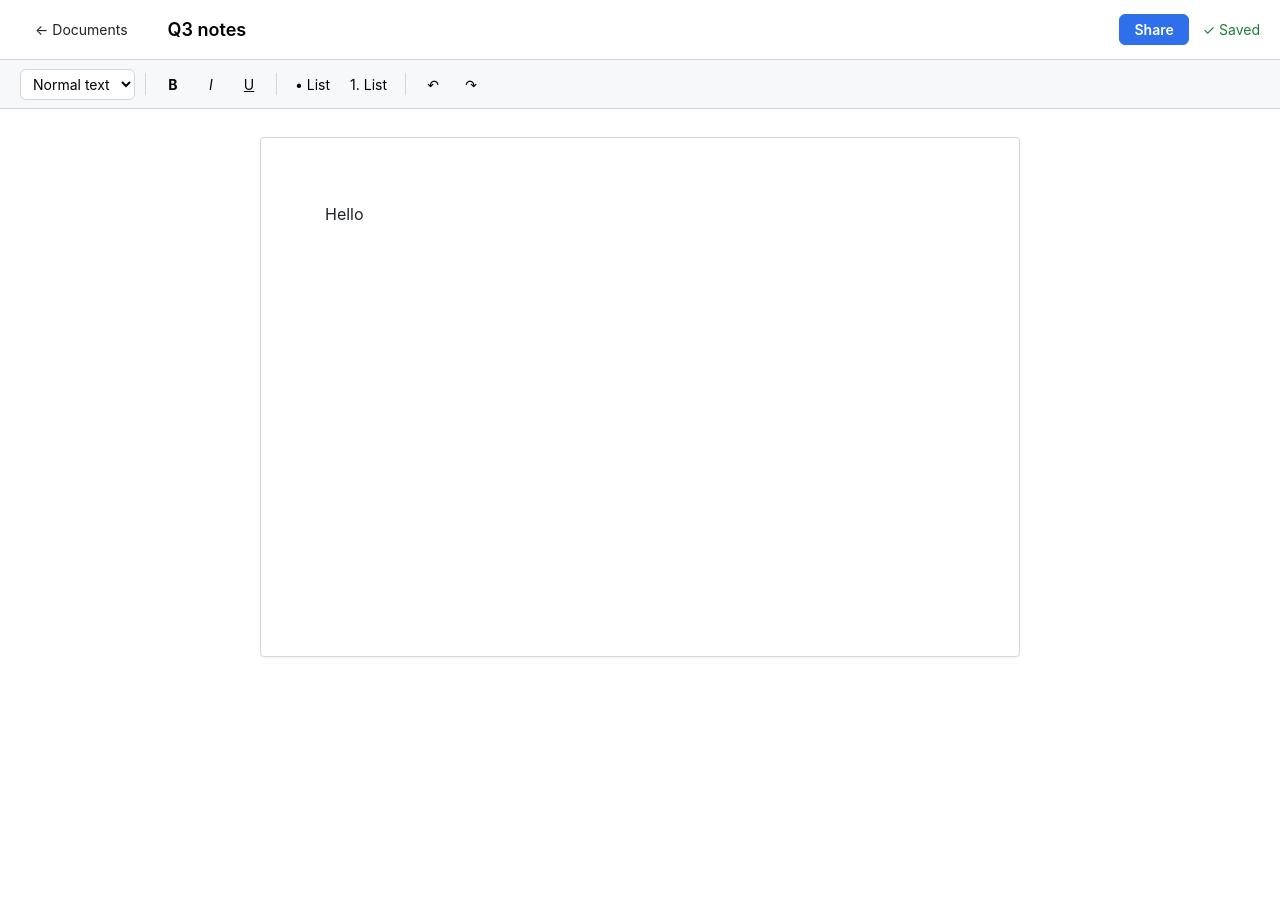
Test: sharing in the editor › shows a message when sharing fails
Click the button "Share" at x=1154, y=30, box [1120,14,1189,45]
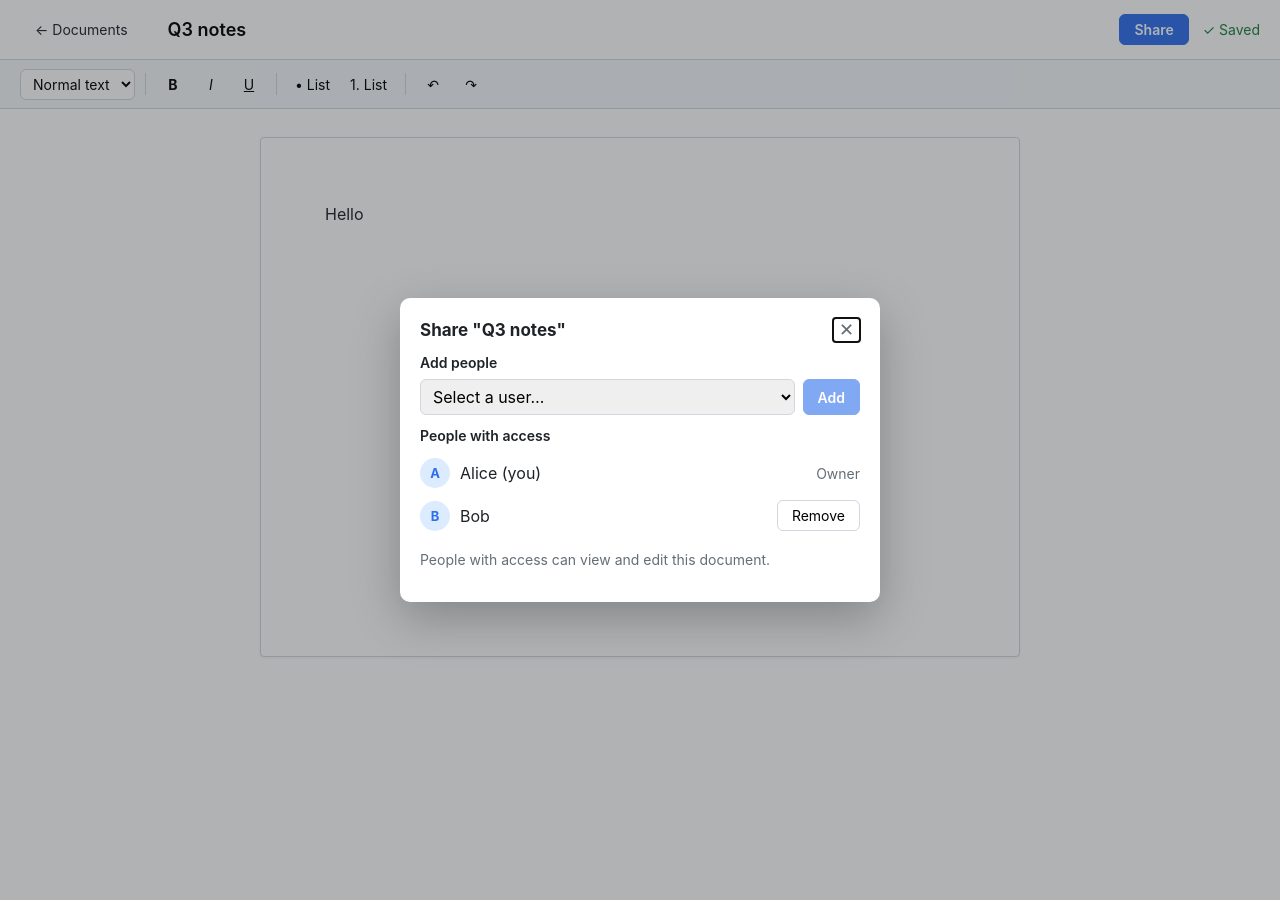
Result: the list named "People with access" is shown at [420,452,860,537]
Select "Carol" in the dropdown labelled "Add people" at x=607, y=397, box [420,379,794,415]
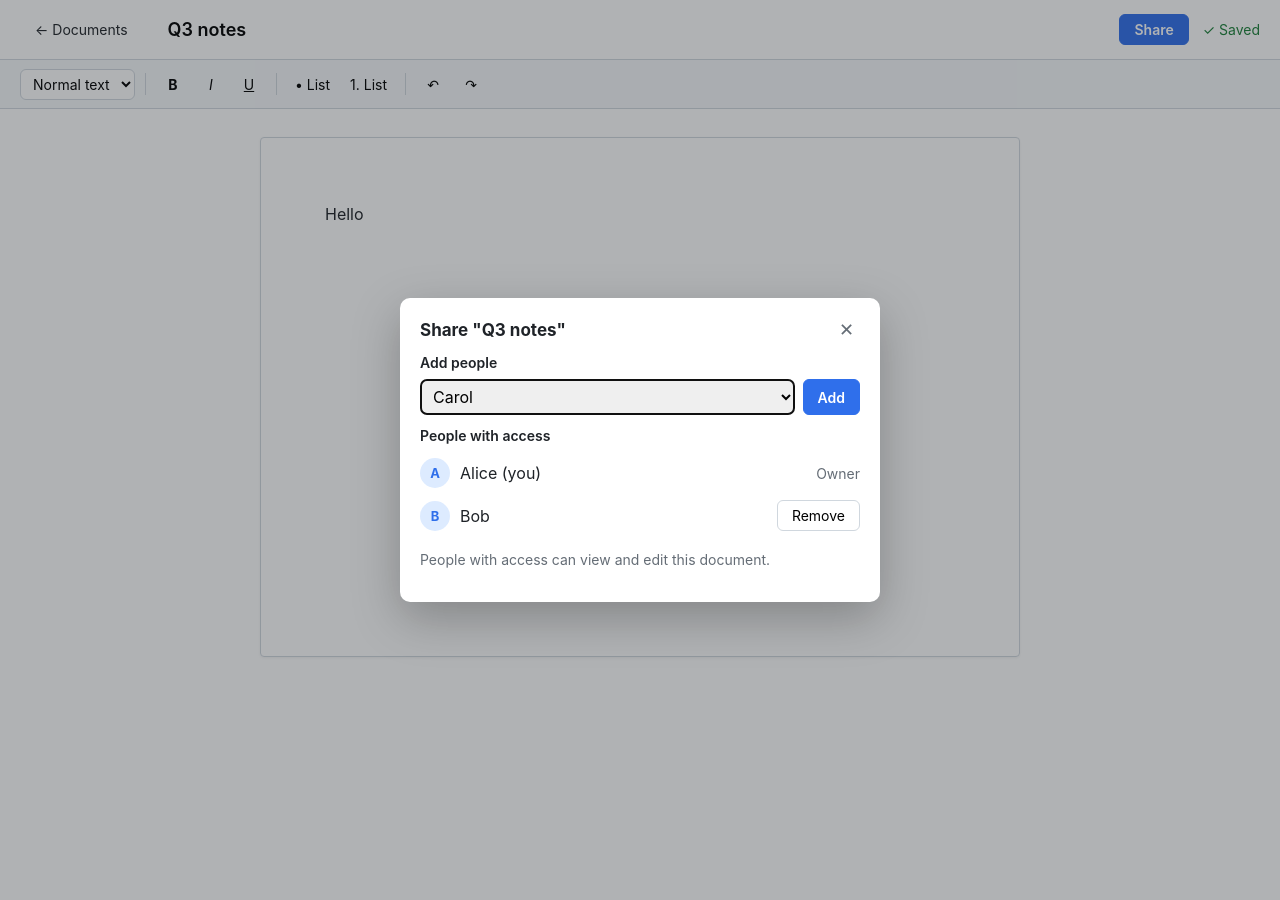
Click the button "Add" at x=831, y=397, box [802,379,860,415]
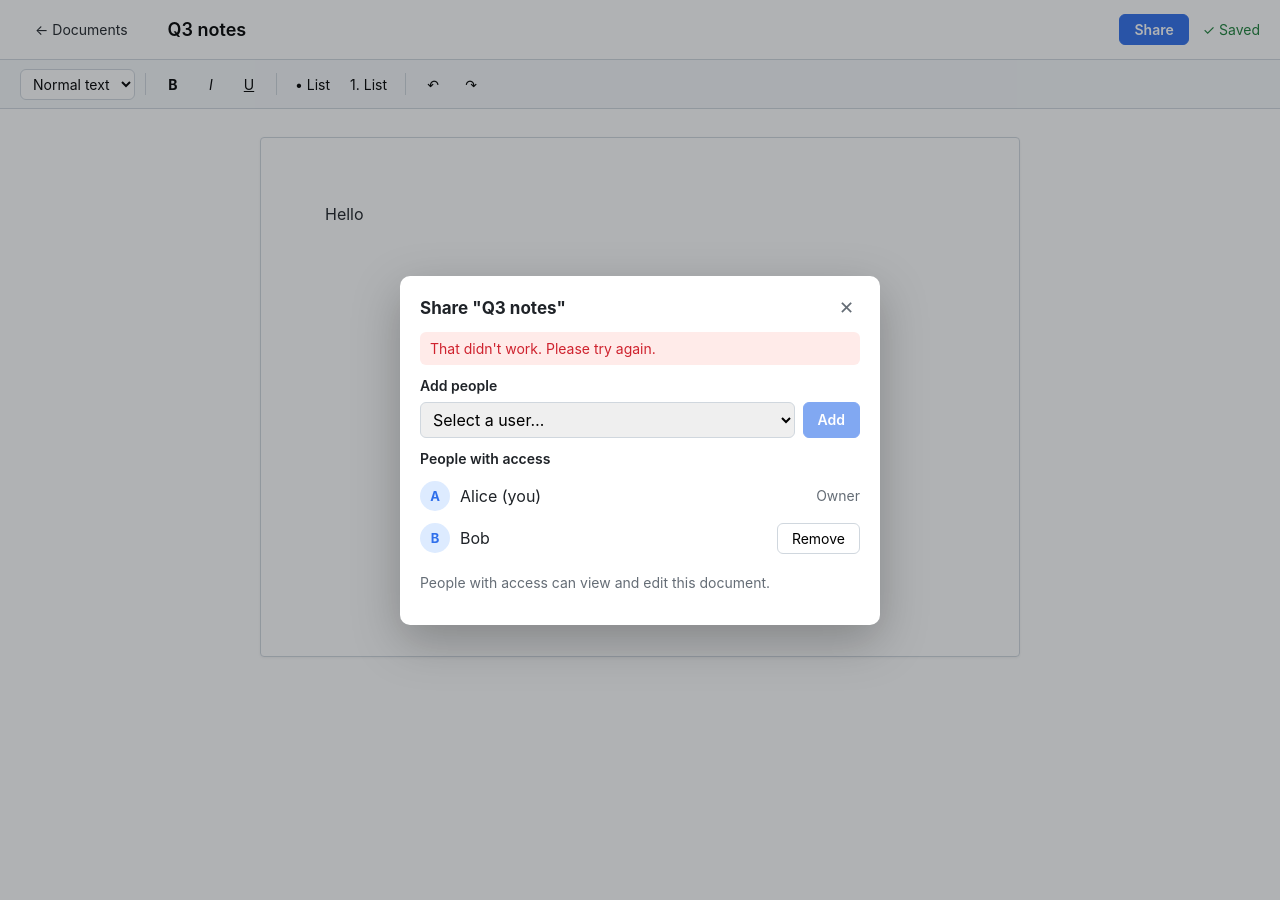
Result: the message shows "That didn't work" at [430,340,656,356]
